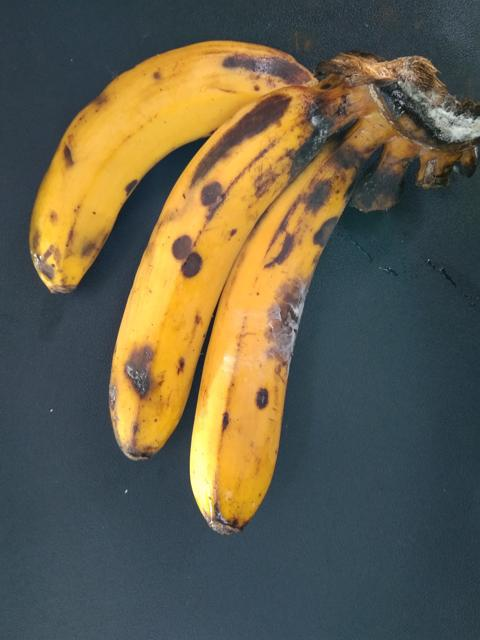overripe: (84, 113, 317, 496), (175, 134, 382, 549), (9, 29, 314, 303)
rotten: (254, 287, 333, 397)
